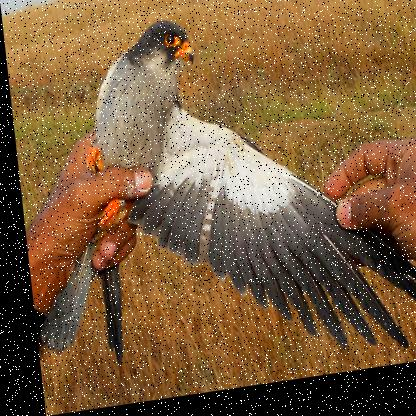Burung: (8, 0, 415, 401)
